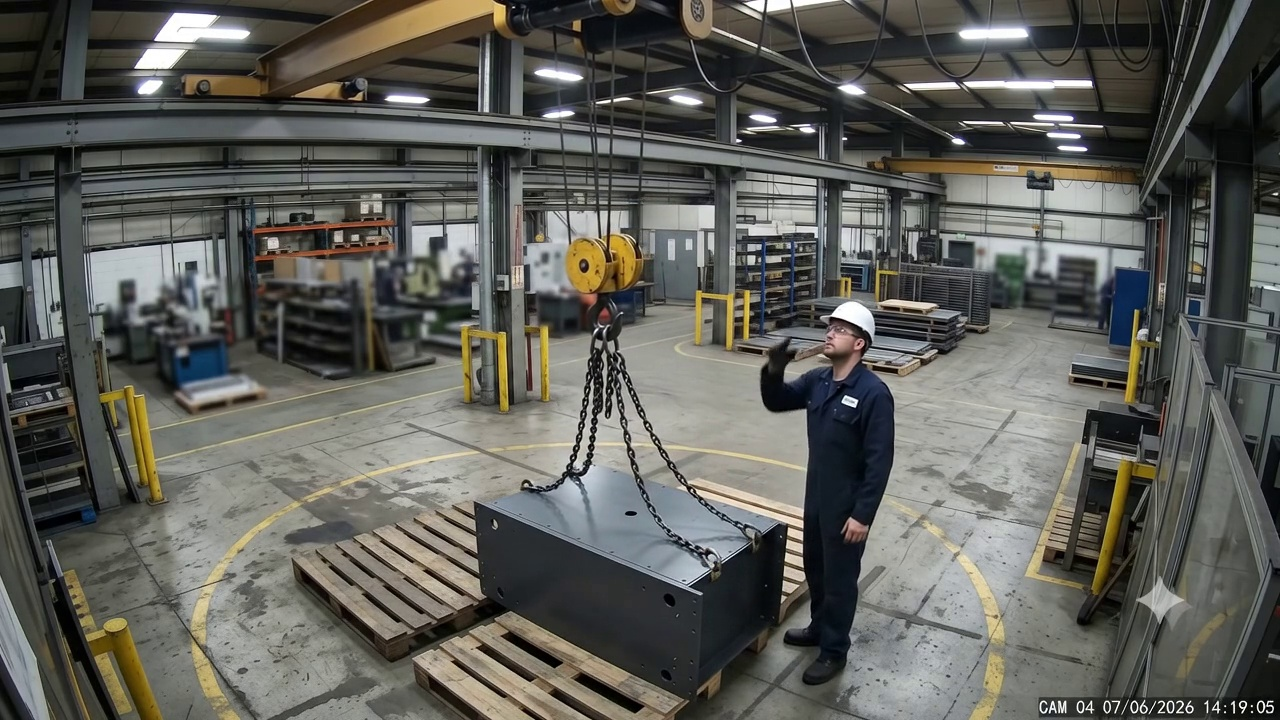person: (761, 300, 896, 687)
